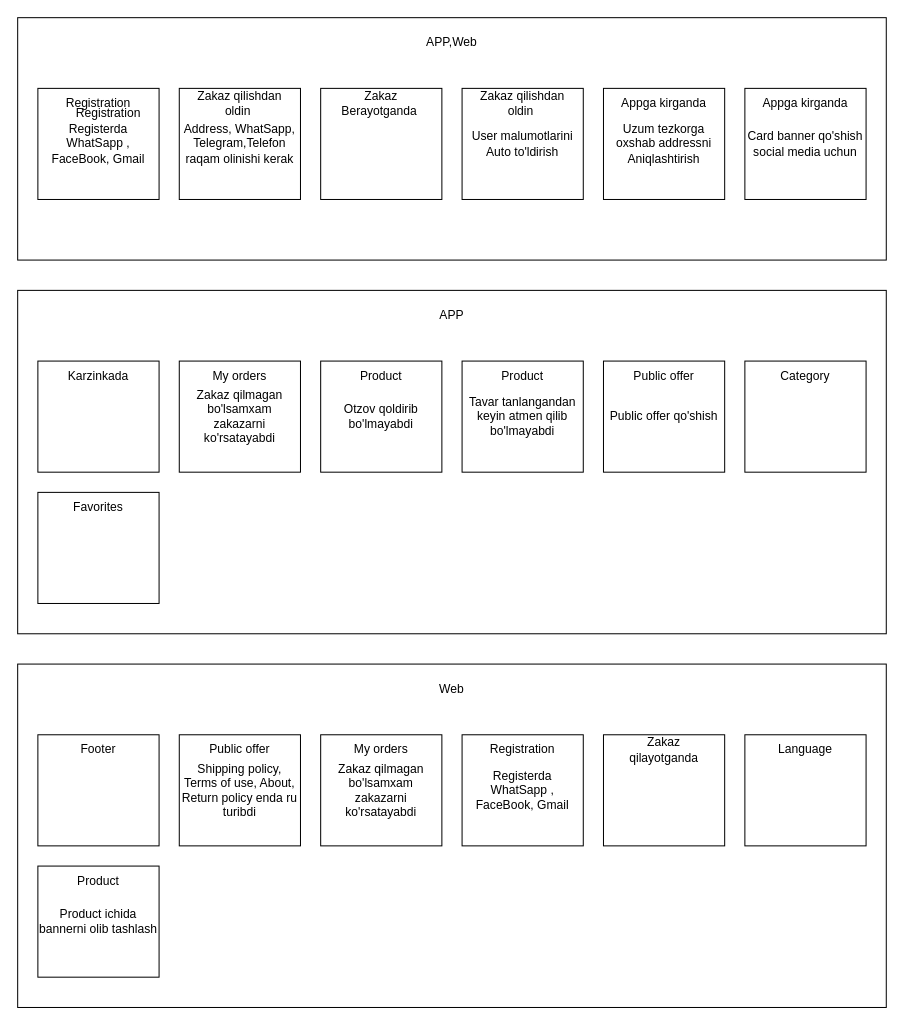
Image size: 904x1025. Some labels were removed from this diagram. The box of each missing label's shape, as (x1, y1, x2, y2) in pixels:
banneri enda ru turibdi O'zgartirish kerak: (37, 491, 159, 603)
categotia nomlarini enda uzb turibdi almashtirish kerak: (744, 360, 866, 472)
email po'chtani o'zgartirish va teleforn taqamlarga link qo'yish: (37, 734, 159, 846)
Karzinkada zakaz qilib bo'lmayabdi: (37, 360, 159, 472)
Online to'lovni disabled qilish: (320, 87, 442, 199)
Uzb qo'shish: (744, 734, 866, 846)
Zakaz qilayotganda address qismi ishlamayabdi: (602, 734, 725, 846)
